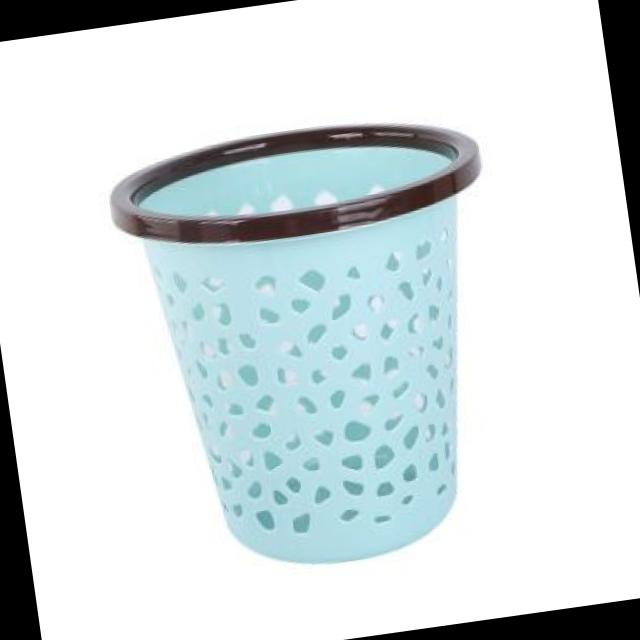dustbin: (97, 91, 541, 594)
